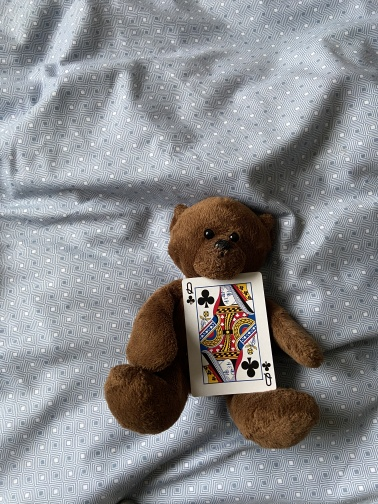queen: (180, 270, 278, 399)
